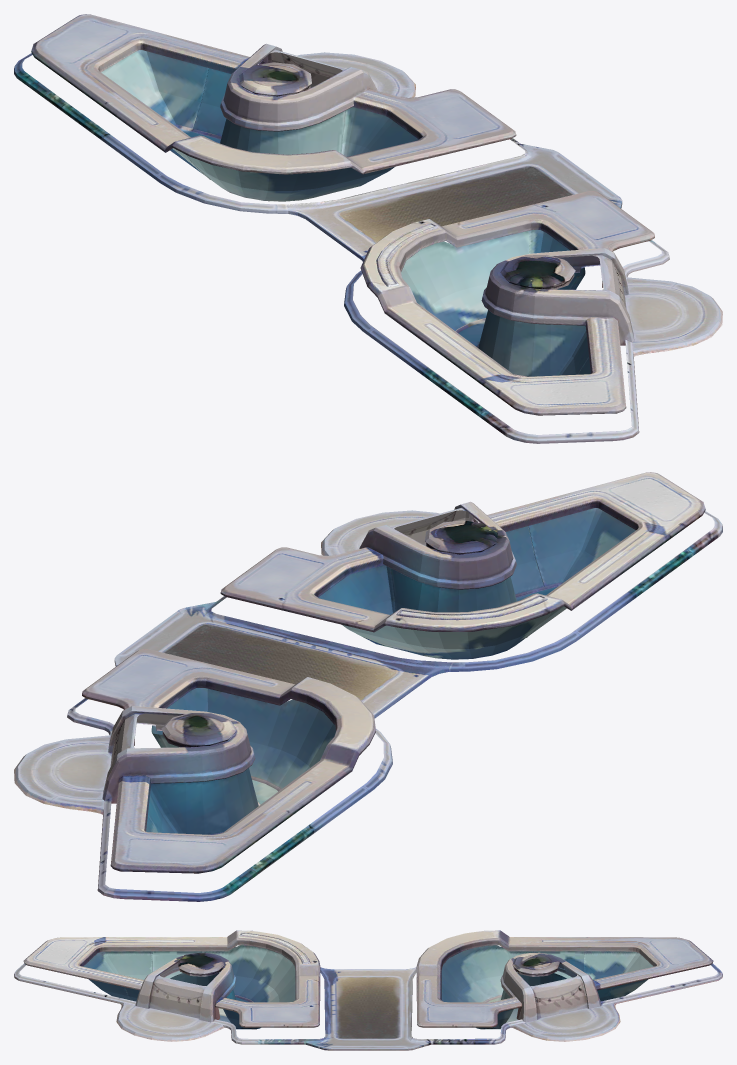
File: pref_sm_beach_winter_bakegroups07_lv1.fbx
The picture shows the model from 3 angles, top to bottom: view 1: azimuth 30°, elevation 25°; view 2: azimuth 150°, elevation 25°; view 3: azimuth 270°, elevation 25°; orthographic projection. The views are drawn at different scales.
Visible parts, largest first — view 1: pref_sm_beach_winter_bakegroups07_lv1; view 2: pref_sm_beach_winter_bakegroups07_lv1; view 3: pref_sm_beach_winter_bakegroups07_lv1.
Boxes of the visible parts, box(x1,y1,x2,y2) form: pref_sm_beach_winter_bakegroups07_lv1: box(14, 14, 722, 443); pref_sm_beach_winter_bakegroups07_lv1: box(14, 472, 722, 901); pref_sm_beach_winter_bakegroups07_lv1: box(14, 930, 722, 1050).
Size of the model in its own units: 15.26 by 3.91 by 44.75.
